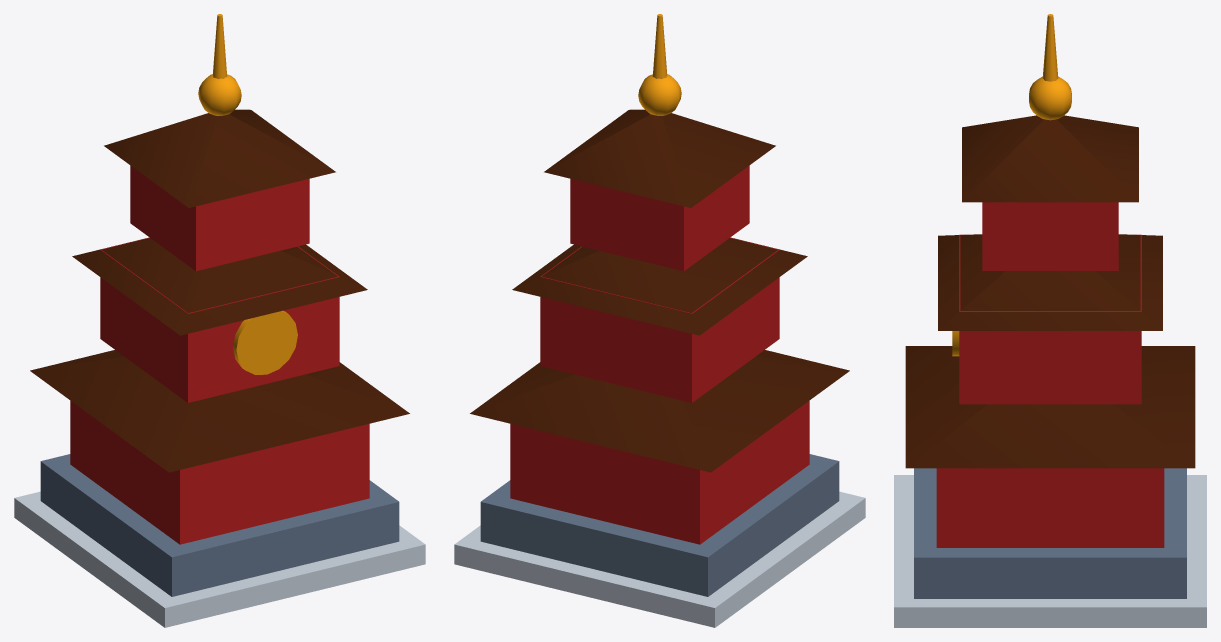
The model's file is bld_heritage_c3.glb.
3 views of the same model, side by side, from view 1: azimuth 30°, elevation 25°; view 2: azimuth 150°, elevation 25°; view 3: azimuth 270°, elevation 25° (orthographic). The views are drawn at different scales.
Parts seen in each view (by area): view 1: Bld_Heritage_C3_PavilionTower; view 2: Bld_Heritage_C3_PavilionTower; view 3: Bld_Heritage_C3_PavilionTower.
Part boxes in pixels (x1,y1,x2,y2): Bld_Heritage_C3_PavilionTower: (14, 14, 425, 627); Bld_Heritage_C3_PavilionTower: (454, 14, 865, 627); Bld_Heritage_C3_PavilionTower: (894, 14, 1206, 627).
Bounding box in the file's own units: 0.55 × 1.06 × 0.55.
